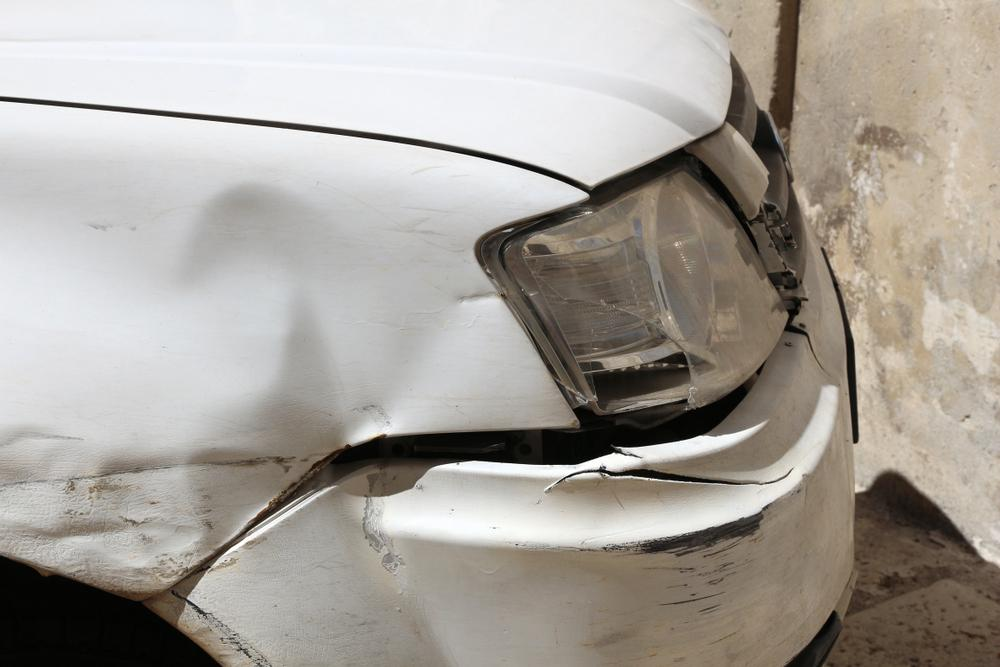crack: (542, 466, 795, 496), (788, 326, 841, 385), (614, 447, 647, 460)
dent: (0, 147, 486, 454)
lamp broken: (494, 166, 797, 434)
scratch: (520, 481, 806, 667)
